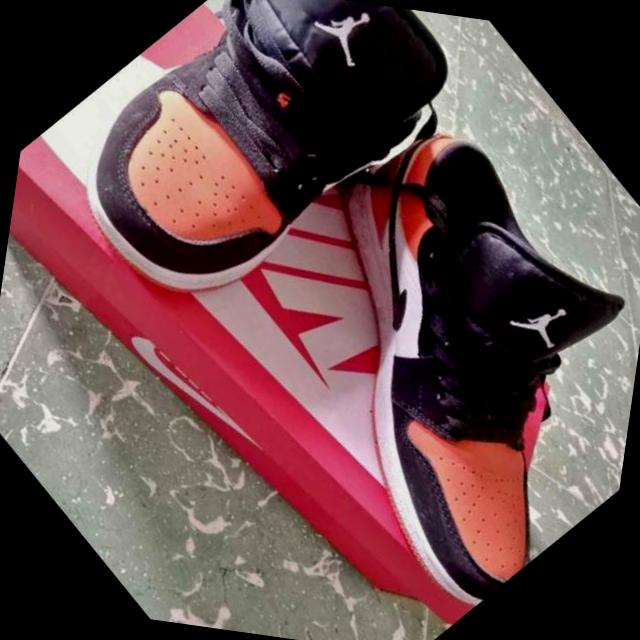nike_fake_jordan: (169, 65, 640, 635), (0, 0, 497, 381)
